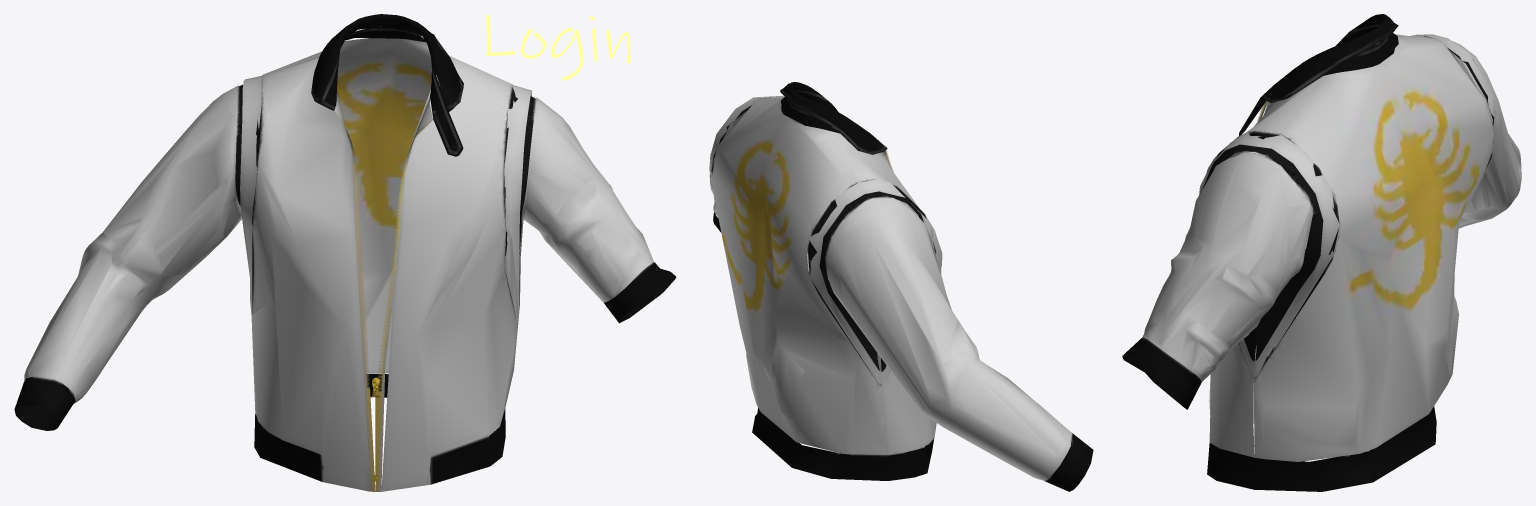
The model's file is login_mobitel.glb.
The picture shows the model from 3 angles, left to right: view 1: azimuth 30°, elevation 25°; view 2: azimuth 150°, elevation 25°; view 3: azimuth 270°, elevation 25°; orthographic projection. The views are drawn at different scales.
Visible parts, largest first — view 1: login, Login; view 2: login; view 3: login.
Boxes of the visible parts, box(x1,y1,x2,y2) form: login: box(14, 14, 676, 491); Login: box(486, 14, 630, 80); login: box(709, 82, 1093, 491); login: box(1122, 14, 1521, 491).
Bounding box in the file's own units: 0.9117 × 0.6784 × 0.5416.
3 materials, 1 textured.
